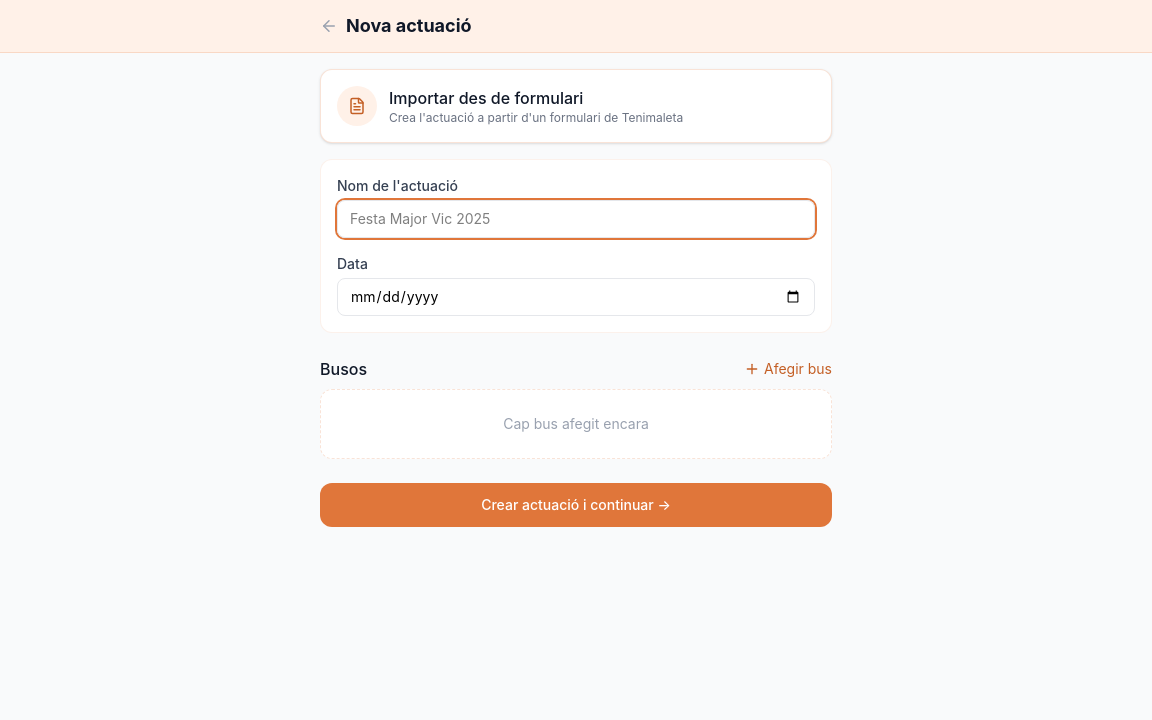
NewEvent › submit amb error genèric mostra missatge
The width and height of the screenshot is (1152, 720).
Type "Vic 2025" into the field with placeholder "Festa Major Vic 2025" at coordinates (576, 219), box [337, 200, 815, 238]
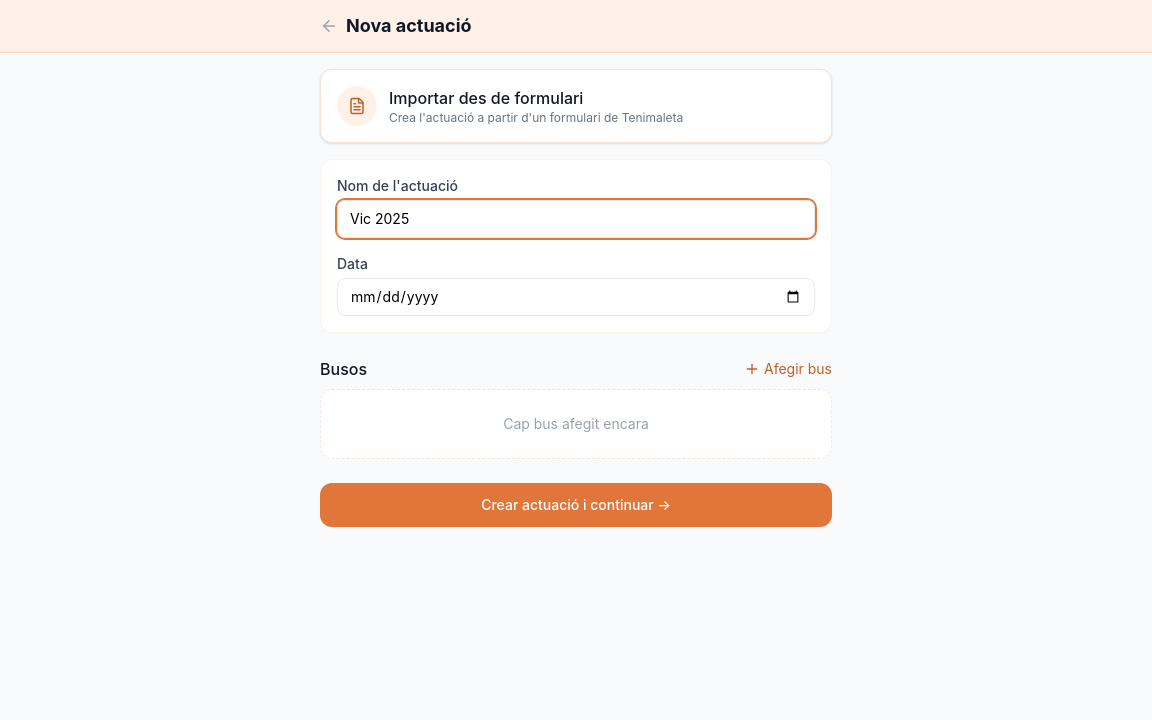
Type "2025-06-01" into the date field labelled "Data" at coordinates (576, 297), box [337, 278, 815, 316]
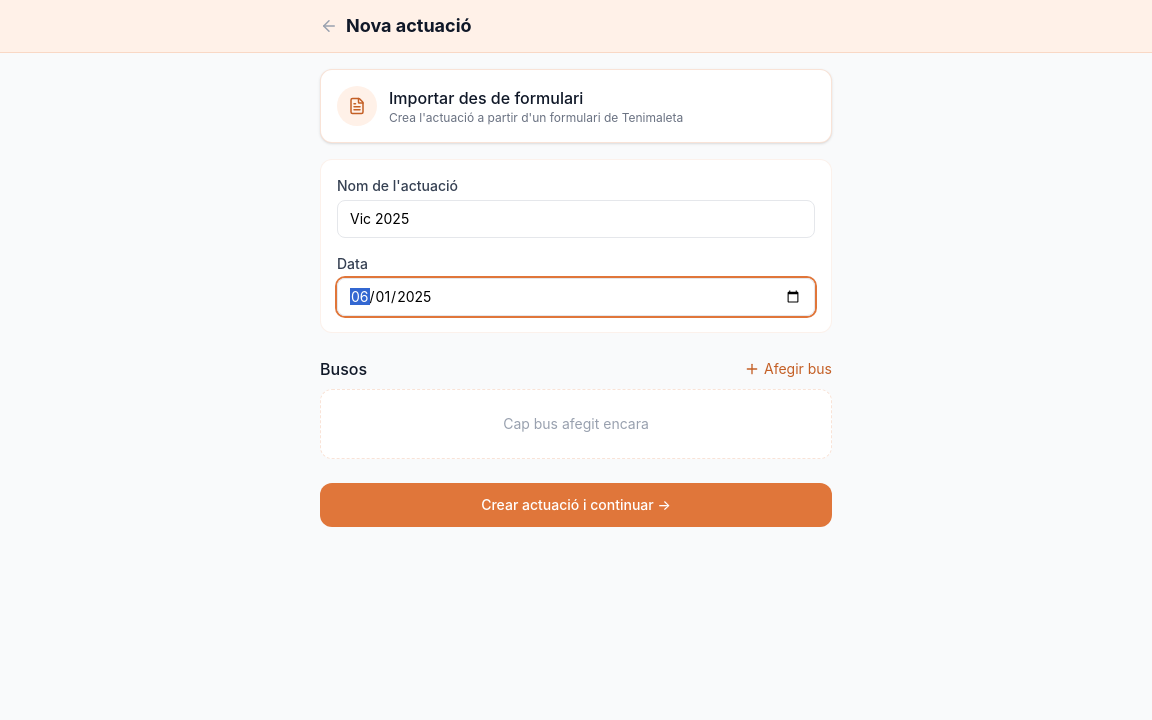
Click the button "Afegir bus" at coordinates (788, 369), box [744, 359, 832, 379]
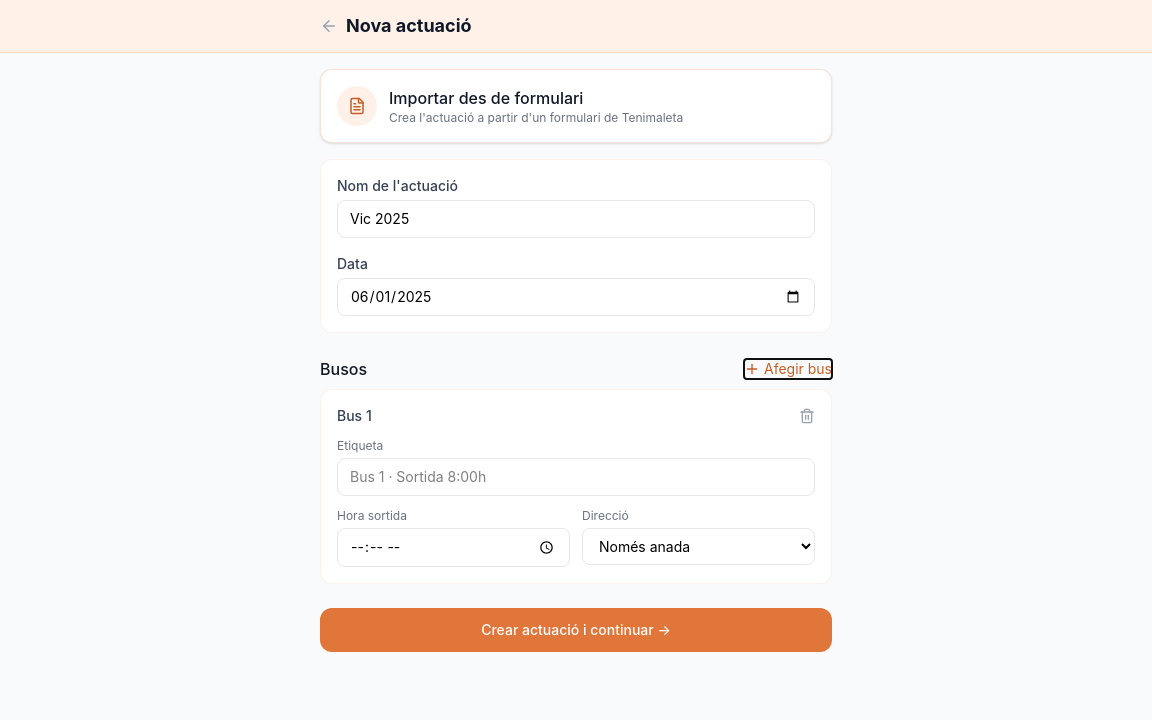
Submit the form named "Crear", box [320, 159, 832, 652]
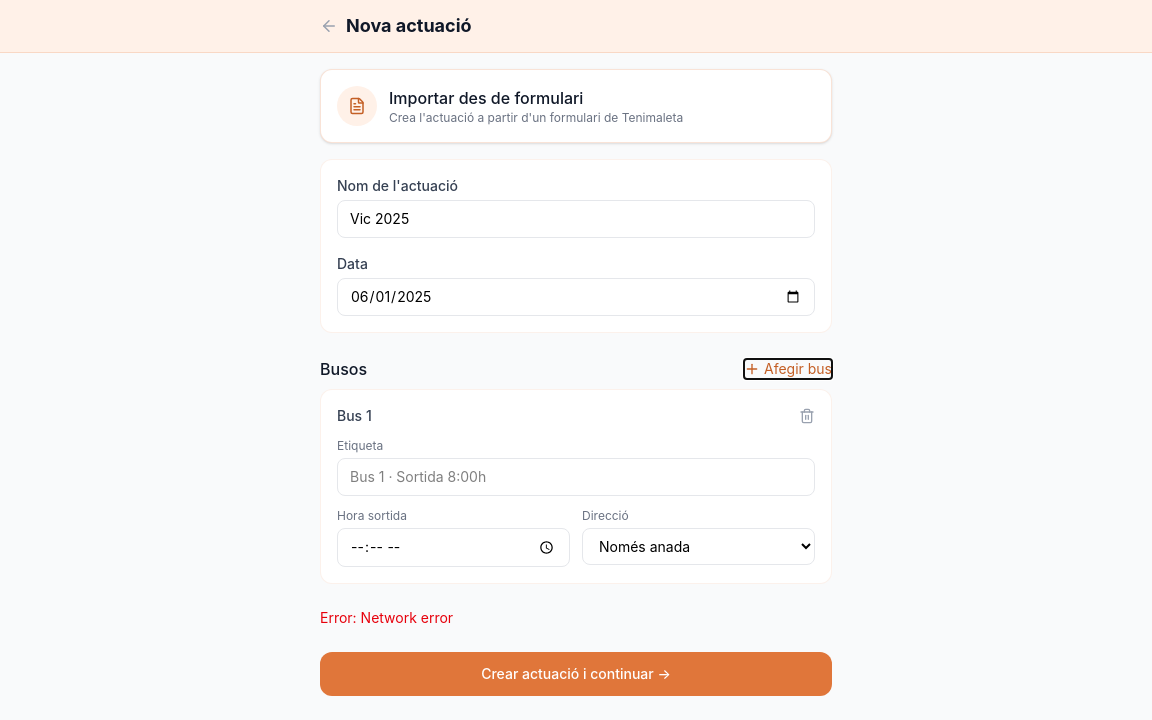
Result: the text "Error: Network error" is shown at [320, 609, 453, 626]
